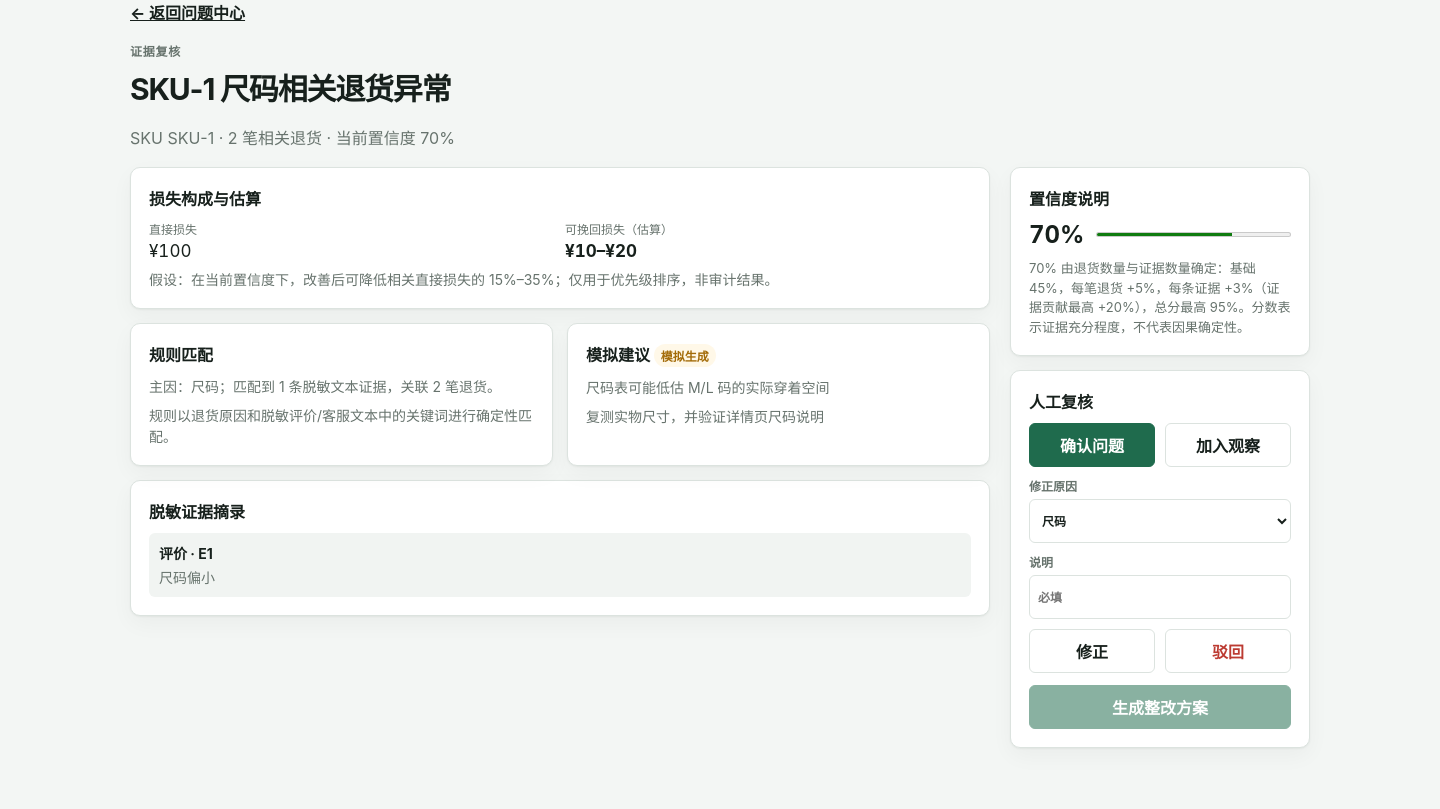
Test: regenerates a rejected issue draft as feedback-aware V2 without leaving generation pending
Click the button "确认问题" at (1092, 445), box [1029,423,1155,467]
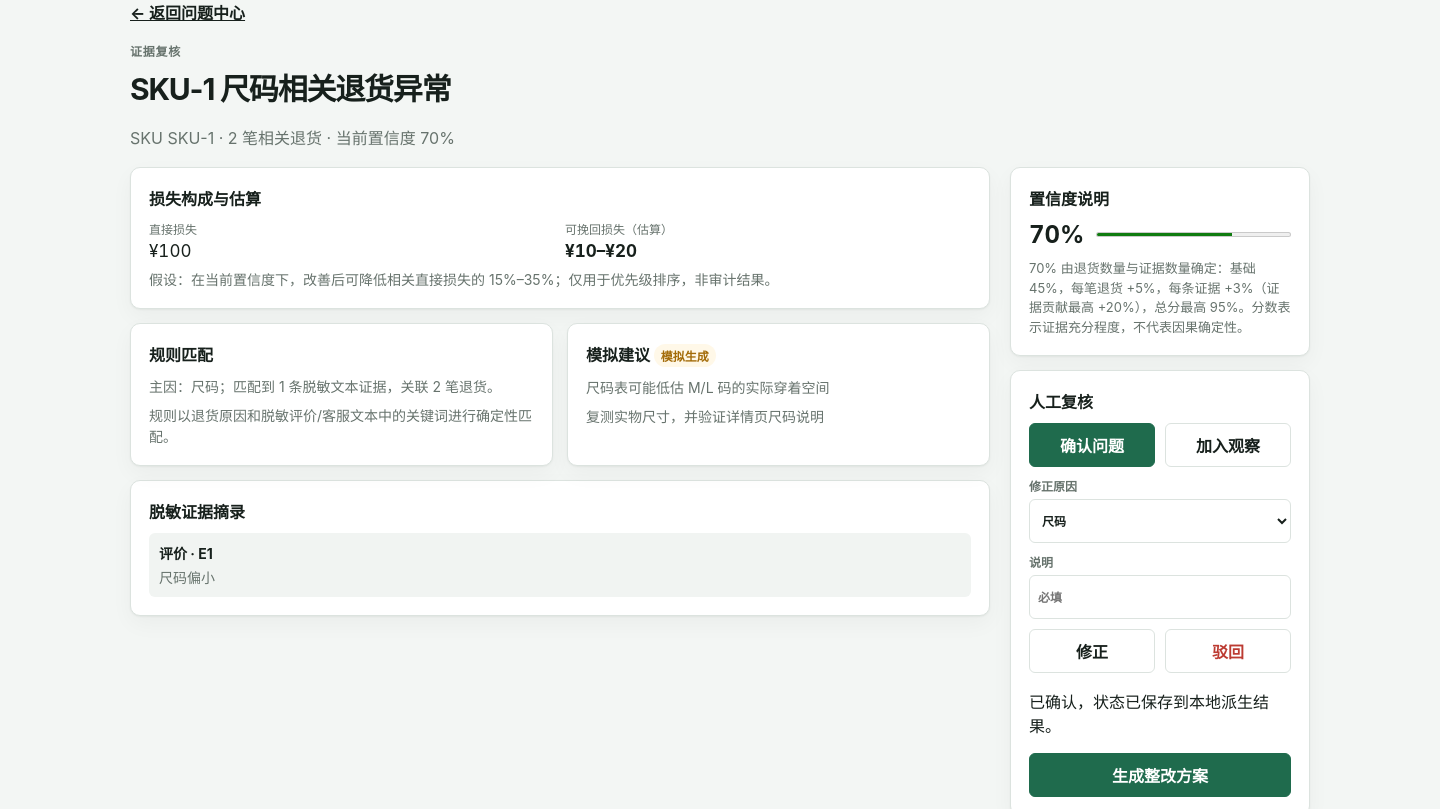
Click the button "生成整改方案" at (1160, 775), box [1029,753,1291,797]
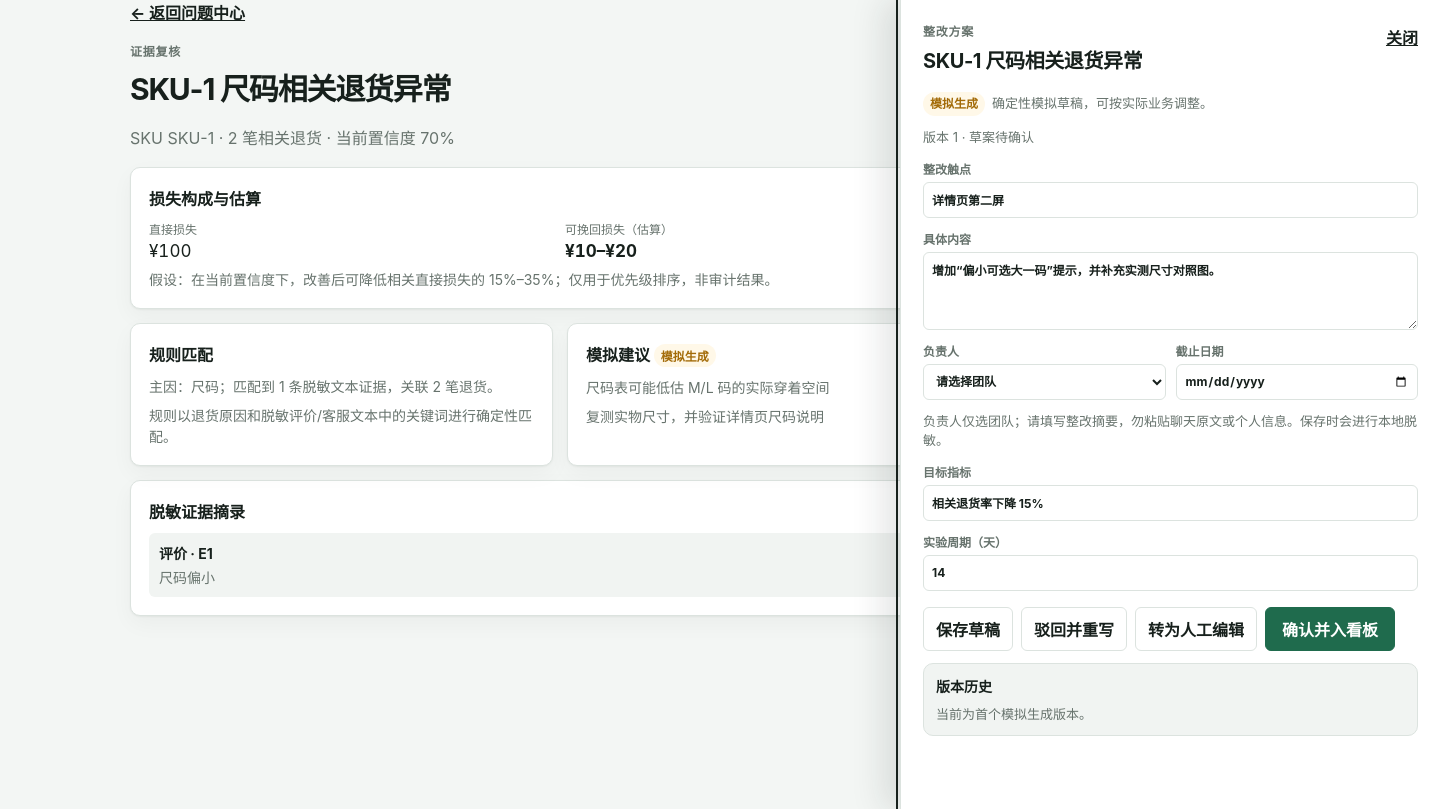
Result: the field labelled "整改触点" is shown at [923,182,1418,218]
Click the button "驳回并重写" at (1074, 628), box [1021,606,1127,650]
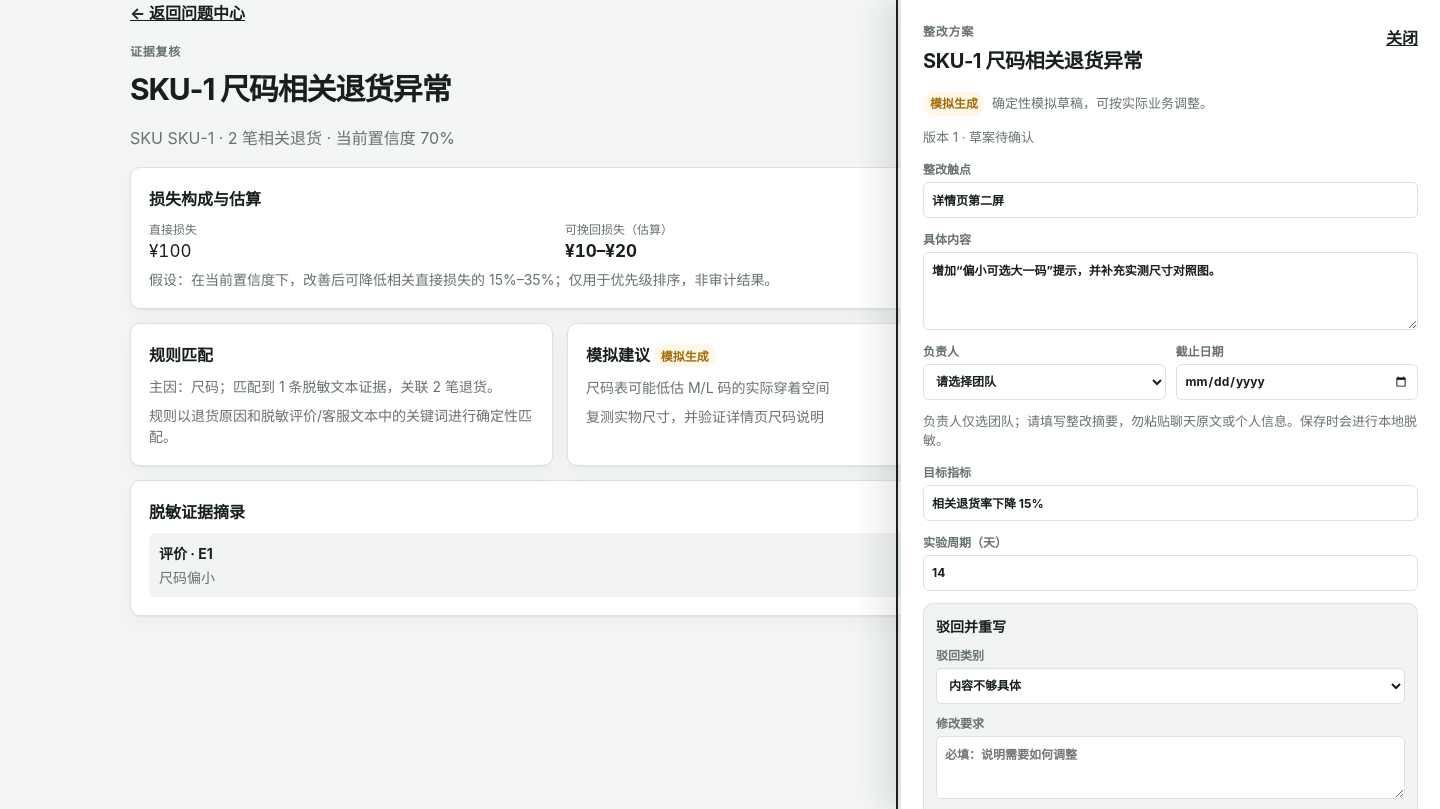
Select "触点不正确" in the dropdown labelled "驳回类别" at (1170, 686), box [936,668,1405,704]
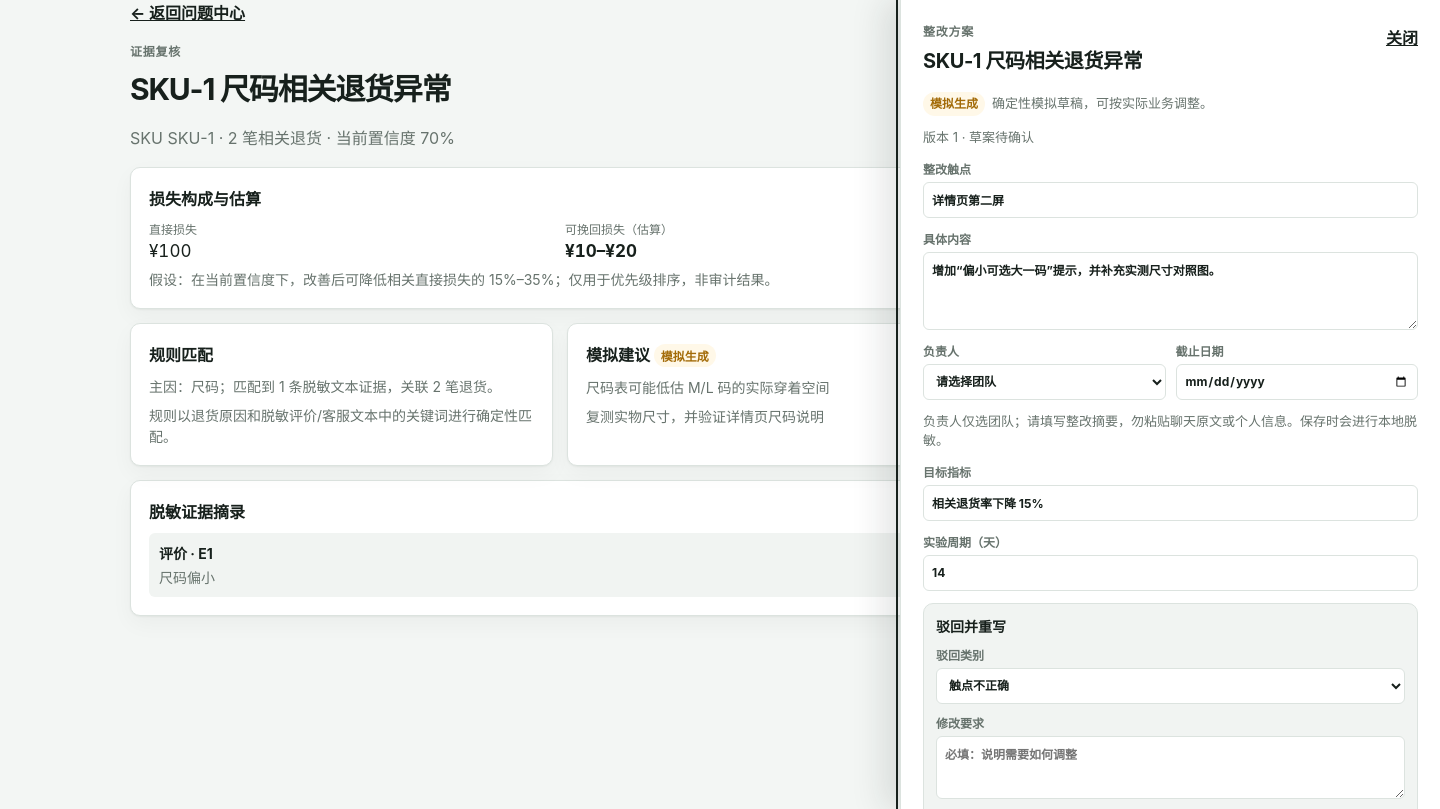
Type "改到尺码建议模块，并补充测量位置" into the text box labelled "修改要求" at (1170, 767), box [936,736,1405,798]
(page scrolled)
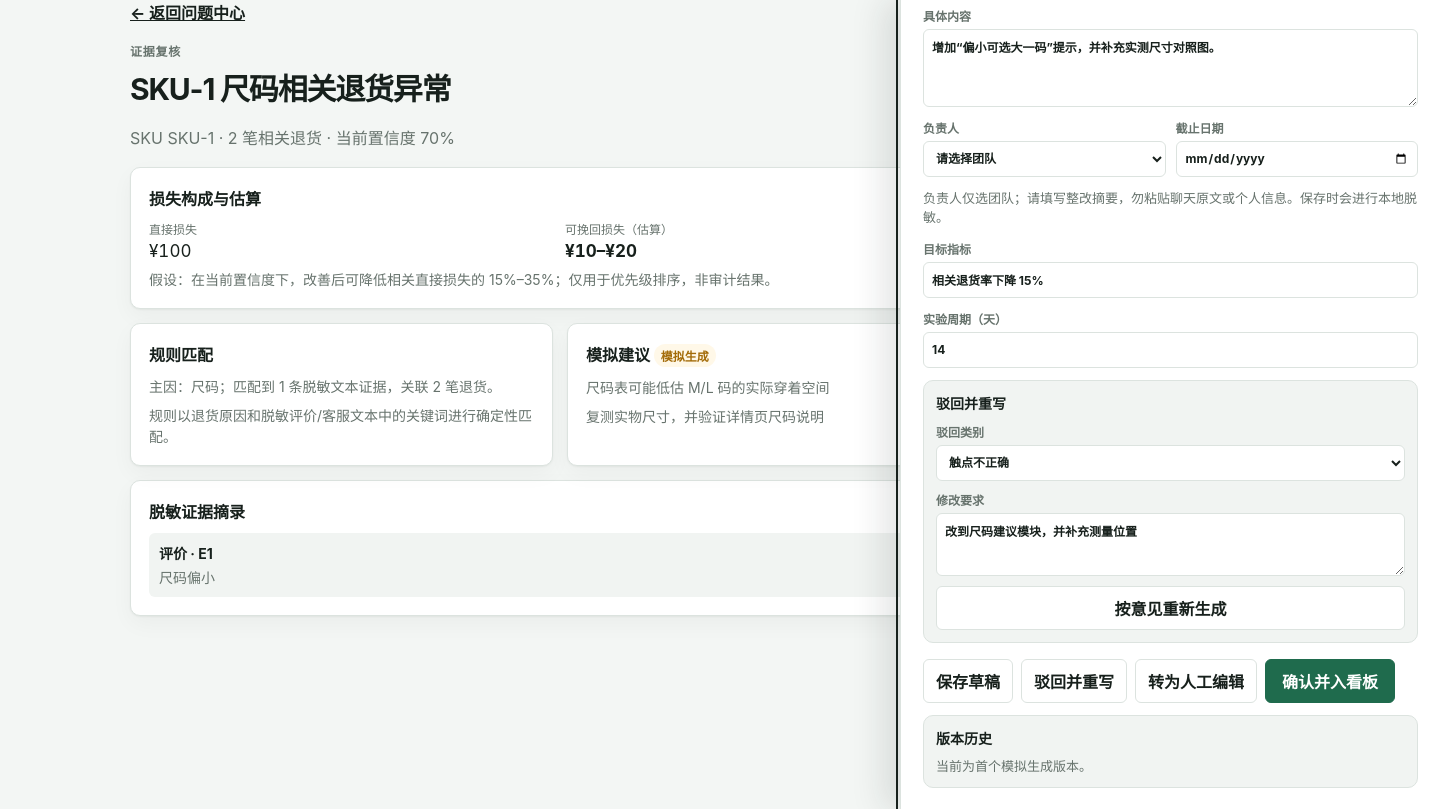
Click the button "按意见重新生成" at (1170, 608), box [936,586,1405,630]
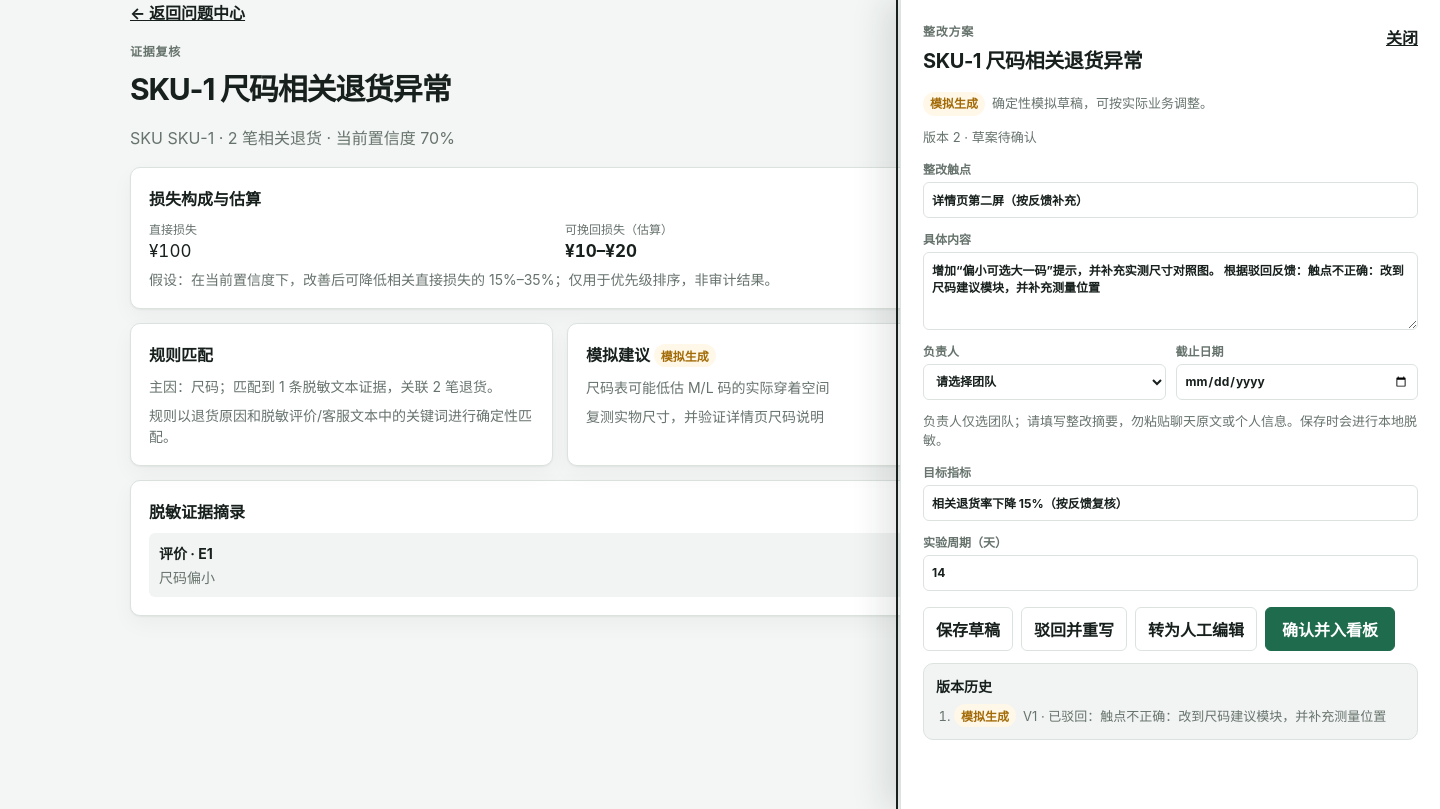
Result: the text "版本 2" is shown at [923,129,961,145]
Result: the text box showing "触点不正确：改到尺码建议模块" is shown at [923,252,1418,330]
